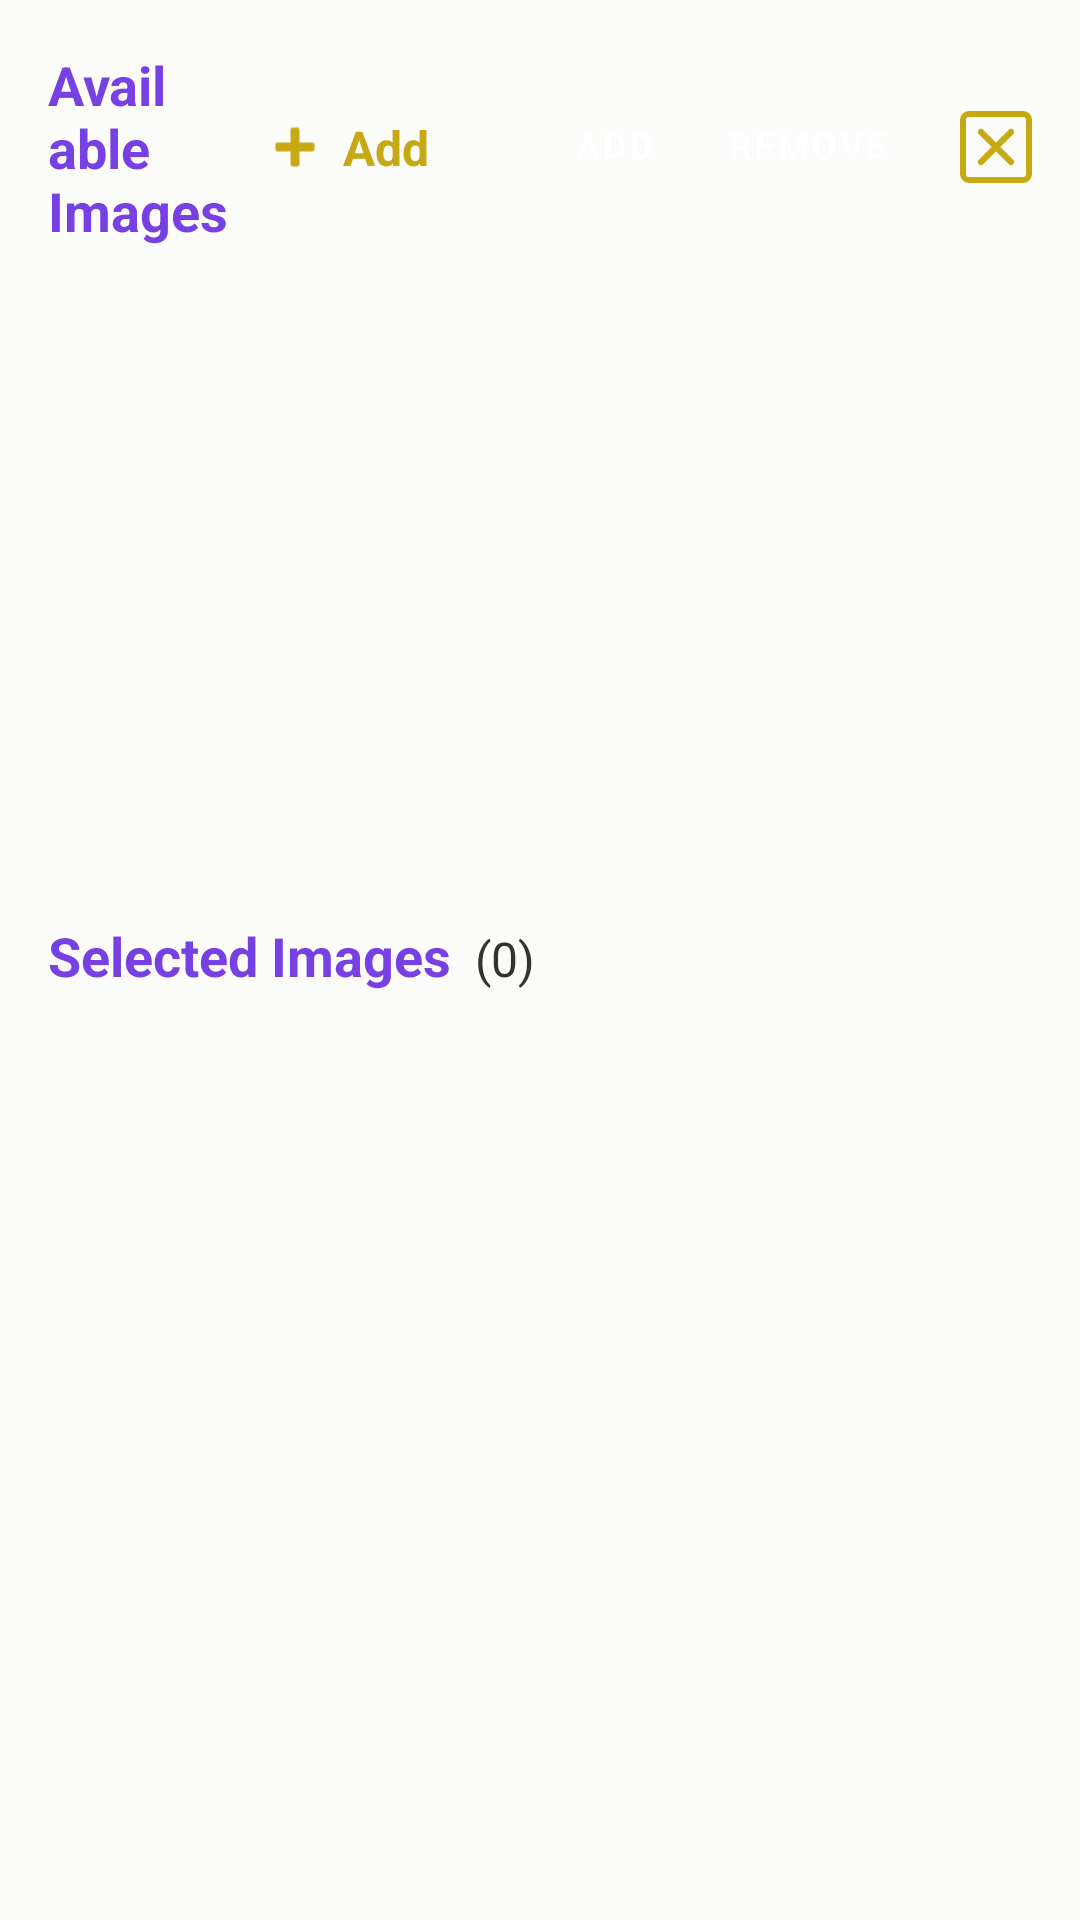

Locate icon controls on the screen. Image size 1080w x 1920h, boxes as (x1, y1, x2, y2).
Exit multi-select mode: (960, 111, 1032, 183)
